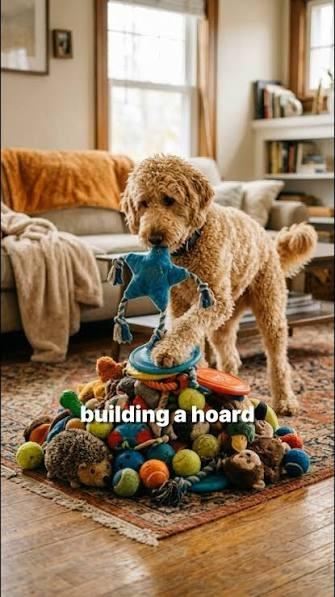adult_dog: (120, 153, 319, 418)
